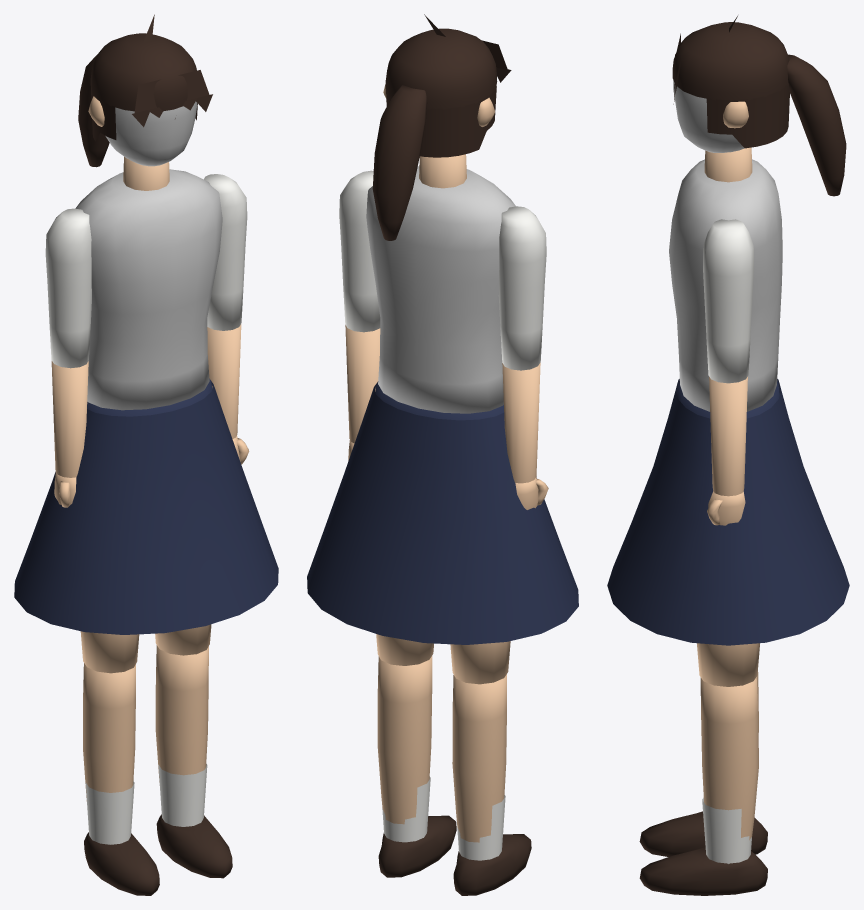
File: nagisa.glb
3 views of the same model, side by side, from view 1: azimuth 30°, elevation 25°; view 2: azimuth 150°, elevation 25°; view 3: azimuth 270°, elevation 25° (orthographic). The views are drawn at different scales.
Parts seen in each view (by area): view 1: hips, torso, head, shinL, shinR, armR, armL, foreR, foreL, legR, legL; view 2: hips, torso, head, shinL, shinR, armR, armL, foreR, foreL, legR, legL; view 3: hips, head, torso, shinL, armL, foreL, shinR, legL.
Boxes of the visible parts, x1,y1,x2,y2 form: hips: (14,378,278,634); torso: (75,156,222,410); head: (78,14,212,167); shinL: (155,645,232,878); shinR: (83,663,159,895); armR: (45,208,91,368); armL: (204,174,247,330); foreR: (51,361,88,507); foreL: (207,324,249,464); legR: (80,631,139,673); legL: (155,624,211,655); hips: (307,381,578,644); torso: (366,154,515,413); head: (372,14,511,240); shinL: (377,656,456,877); shinR: (452,674,531,895); armR: (498,206,546,370); armL: (339,170,380,332); foreR: (502,362,548,509); foreL: (345,325,380,460); legR: (450,641,510,684); legL: (376,634,433,665); hips: (607,379,849,645); head: (672,16,846,196); torso: (669,147,782,411); shinL: (639,677,767,895); armL: (703,219,753,383); foreL: (707,376,747,525); shinR: (639,671,767,856); legL: (697,643,759,686).
Bounding box in the file's own units: 0.513 × 1.71 × 0.437.
